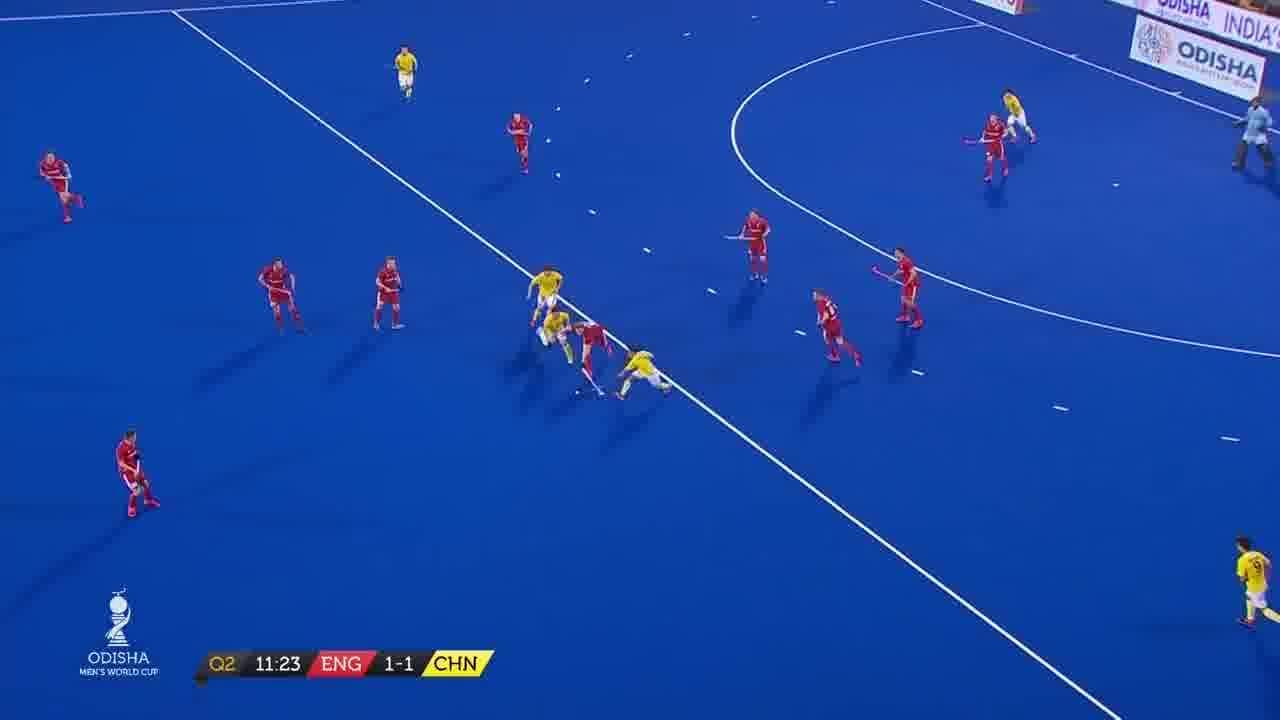ball: (573, 388, 584, 399)
